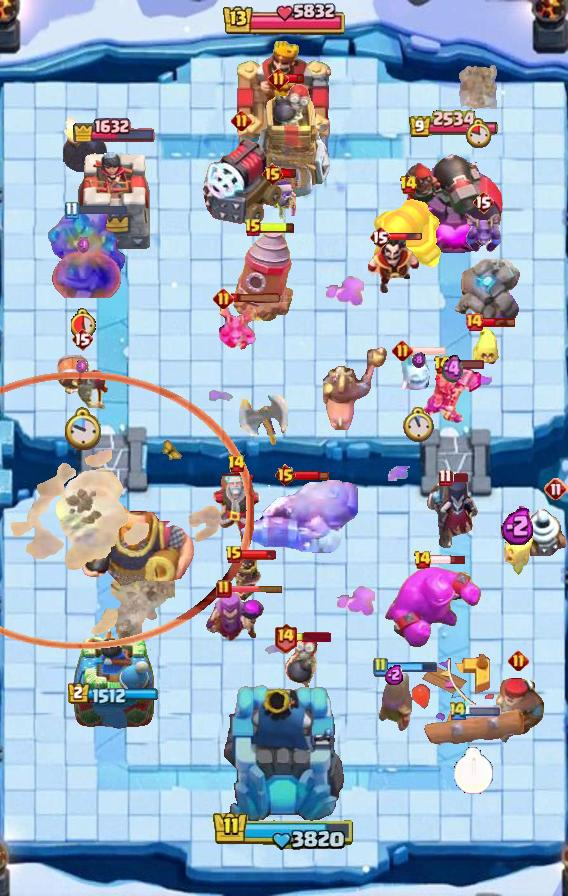axe: (238, 395, 290, 447)
bar: (386, 661, 438, 673), (76, 204, 128, 216), (231, 293, 283, 304), (230, 584, 284, 593), (260, 221, 296, 234), (430, 554, 467, 566), (410, 345, 447, 357), (465, 705, 501, 717), (241, 549, 277, 561), (481, 316, 517, 328), (294, 469, 329, 481), (449, 359, 485, 370), (295, 632, 331, 642), (389, 232, 423, 242), (450, 472, 470, 483), (286, 73, 305, 84), (281, 168, 298, 179)
bar-level: (273, 622, 298, 653), (544, 477, 568, 501), (274, 463, 297, 487), (261, 162, 284, 186), (71, 327, 93, 351), (369, 225, 391, 249), (472, 190, 494, 214), (508, 650, 529, 671), (392, 340, 413, 361), (213, 288, 234, 309), (231, 110, 252, 131), (268, 68, 289, 89), (448, 700, 468, 721), (464, 312, 484, 332), (413, 550, 432, 570), (227, 454, 246, 474), (433, 355, 452, 375), (399, 175, 418, 195), (225, 545, 243, 565), (244, 218, 262, 238), (372, 657, 388, 677), (216, 579, 232, 599), (438, 468, 453, 487), (64, 201, 79, 220)
bomb: (62, 113, 108, 172)
bomber: (284, 633, 320, 691)
cannoneer-tower: (403, 138, 503, 256)
clock: (453, 747, 494, 795), (63, 407, 101, 452), (403, 407, 434, 443), (71, 308, 97, 338), (466, 118, 492, 148)
dirt: (111, 581, 175, 650), (457, 63, 501, 109)
electro-wizard: (366, 233, 422, 297)
elixir: (501, 506, 536, 545), (442, 354, 463, 385), (385, 664, 404, 685), (77, 236, 91, 254), (412, 352, 425, 368), (76, 359, 88, 374)
golemite: (453, 259, 523, 327)
heal-spirit: (502, 531, 534, 575), (472, 327, 502, 373)
hunter: (488, 675, 548, 747)
ice-spirit: (396, 351, 440, 397)
ice-wizard: (196, 468, 276, 546)
king-tower: (221, 682, 347, 826), (228, 41, 340, 181)
king-tower-bar: (212, 810, 356, 852), (221, 0, 347, 40)
little-prince: (225, 554, 265, 604)
minion: (219, 301, 259, 351), (462, 211, 504, 255)
mother-witch: (203, 591, 265, 645)
musketeer: (376, 671, 412, 731)
night-witch: (425, 476, 483, 548)
queen-tower: (71, 145, 157, 256), (72, 627, 156, 731)
skeleton-evolution: (269, 179, 301, 221)
the-log: (420, 707, 526, 751)
tower-bar: (408, 110, 499, 139), (72, 115, 157, 142), (68, 682, 160, 706)
valkyrie-evolution: (420, 363, 484, 425)
wall-breaker: (54, 353, 110, 411)
zappy: (514, 496, 568, 556)
